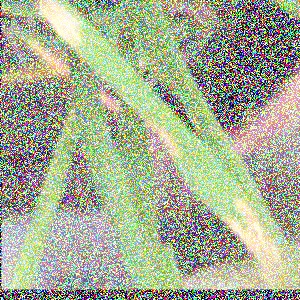Brown_Spot: (229, 190, 300, 277), (140, 109, 189, 153)
